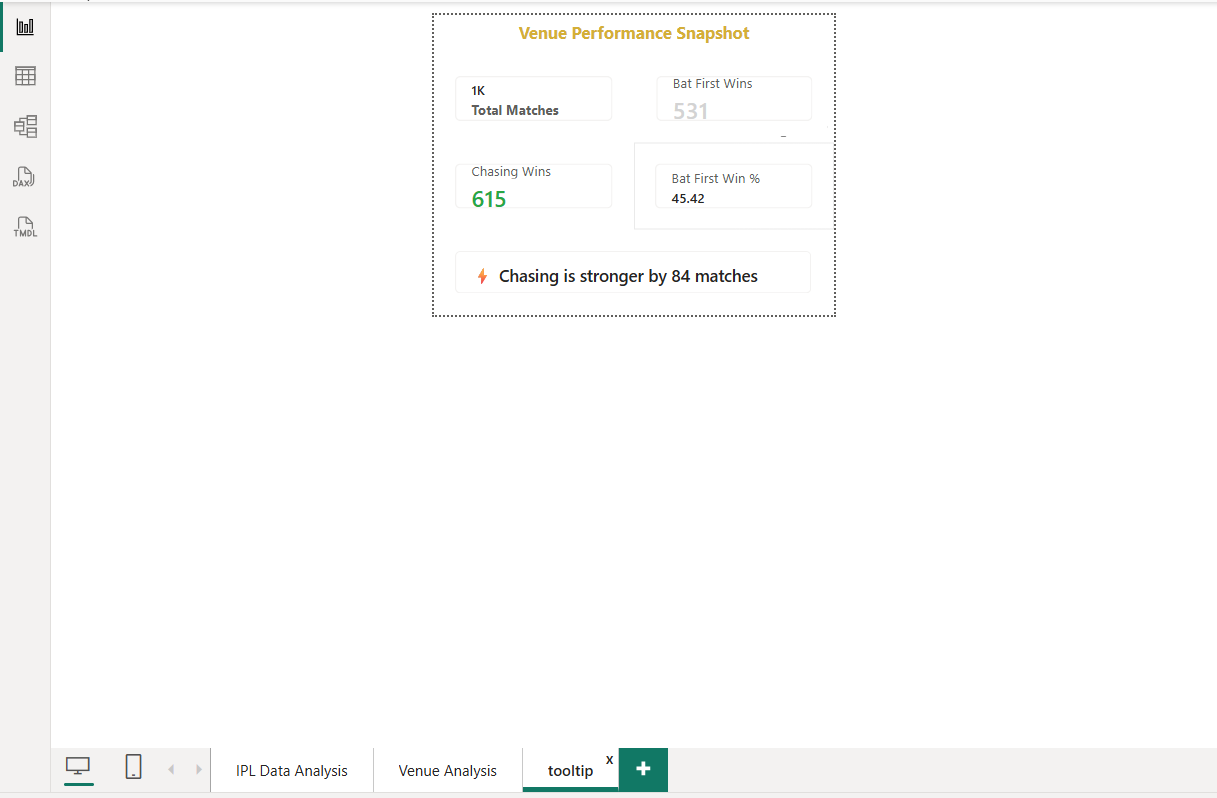

The dashboard page shown, as its layout file describes it:
{"tool":"powerbi","page":{"name":"tooltip ","canvas":[320,240],"ordinal":2},"visuals":[{"type":"textbox","box":[0,0,320,32],"z":0},{"type":"cardVisual","fields":{"Data":["ipl_matches_data.Total Matches"]},"box":[0,32,160,70],"z":1000},{"type":"cardVisual","fields":{"Data":["ipl_matches_data.Bat First Win %"]},"box":[160,102,160,70],"z":2000},{"type":"cardVisual","fields":{"Data":["ipl_matches_data.Chasing Wins"]},"box":[0,102,160,70],"z":3000},{"type":"cardVisual","fields":{"Data":["ipl_matches_data.Bat First Wins"]},"box":[161,32,159,70],"z":4000},{"type":"cardVisual","fields":{"Data":["ball_by_ball_data.Insight Text 2"]},"box":[0,172,319,68],"z":5000}]}

Visuals, with their boxes on the page's 320x240 design canvas (x1, y1, x2, y2). These are canvas units, not pixel positions in the 1217x798 screenshot, which may show the page scaled, cropped or inside an application window:
textbox: [0, 0, 320, 32]
cardVisual - ipl_matches_data.Total Matches: [0, 32, 160, 102]
cardVisual - ipl_matches_data.Bat First Win %: [160, 102, 320, 172]
cardVisual - ipl_matches_data.Chasing Wins: [0, 102, 160, 172]
cardVisual - ipl_matches_data.Bat First Wins: [161, 32, 320, 102]
cardVisual - ball_by_ball_data.Insight Text 2: [0, 172, 319, 240]
